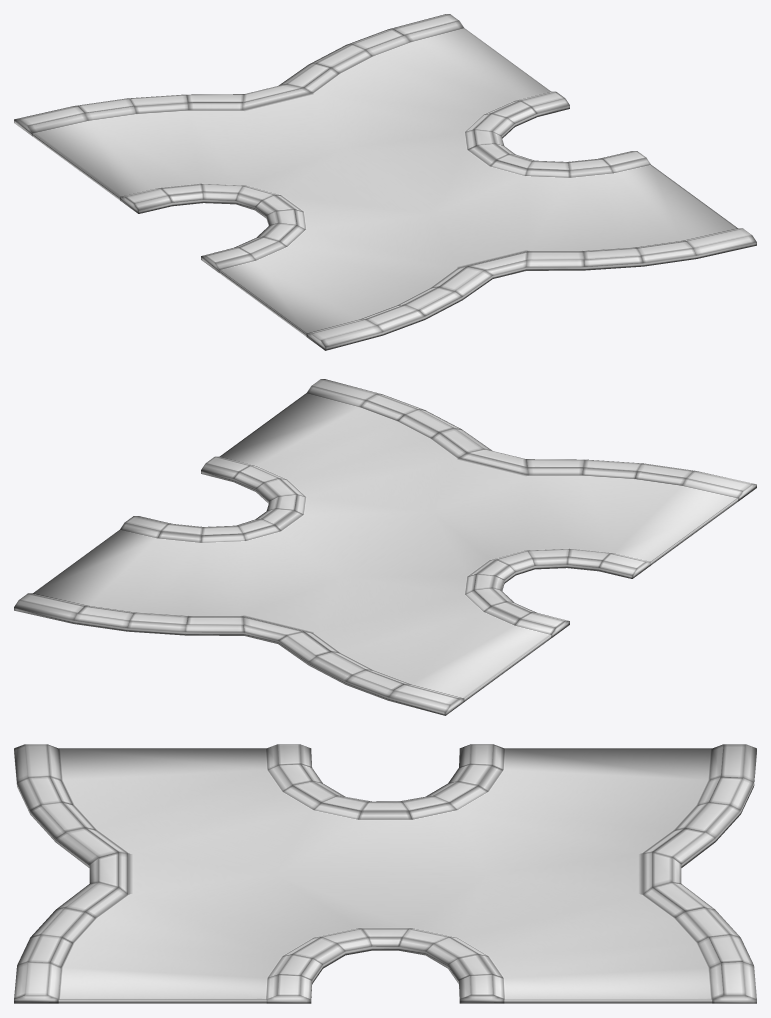
File: Track-08.fbx
3 views of the same model, one above another, from view 1: azimuth 30°, elevation 25°; view 2: azimuth 150°, elevation 25°; view 3: azimuth 270°, elevation 25° (orthographic). The views are drawn at different scales.
Parts seen in each view (by area): view 1: Track-08; view 2: Track-08; view 3: Track-08.
Boxes of the visible parts, x1,y1,x2,y2 form: Track-08: [14, 14, 756, 350]; Track-08: [14, 379, 756, 715]; Track-08: [14, 744, 756, 1003].
Size of the model in its own units: 4 by 0.0625 by 5.
